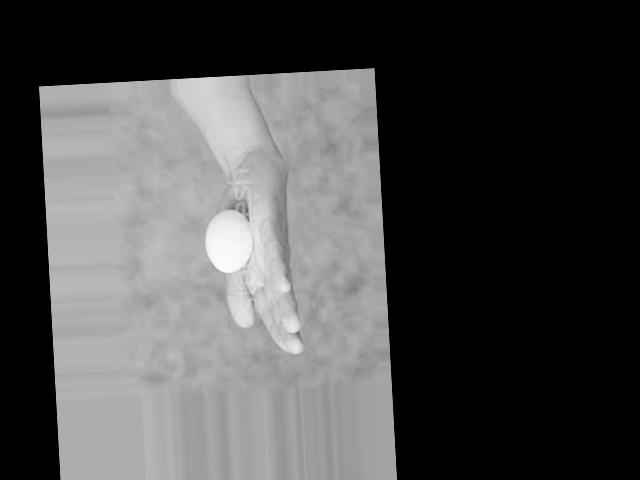egg: (202, 208, 254, 274)
